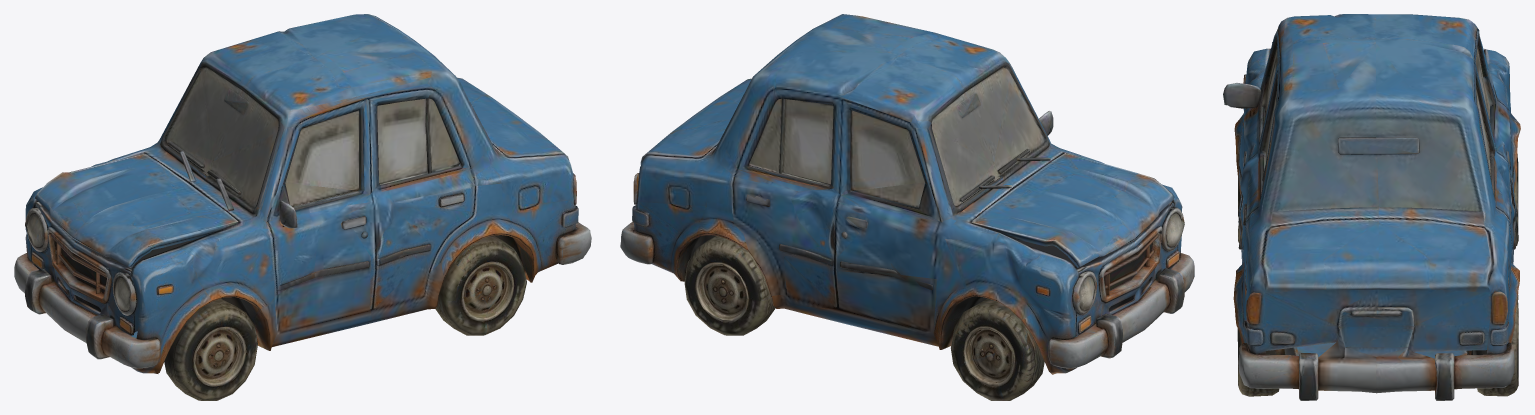
The model's file is car1.glb.
The picture shows the model from 3 angles, left to right: view 1: azimuth 30°, elevation 25°; view 2: azimuth 150°, elevation 25°; view 3: azimuth 270°, elevation 25°; orthographic projection. The views are drawn at different scales.
Visible parts, largest first — view 1: car1; view 2: car1; view 3: car1.
Boxes of the visible parts, x1,y1,x2,y2 form: car1: [14, 14, 591, 400]; car1: [620, 14, 1194, 400]; car1: [1223, 14, 1520, 400].
Bounding box in the file's own units: 1.9 × 1.01 × 0.92.
1 material, 1 textured.
